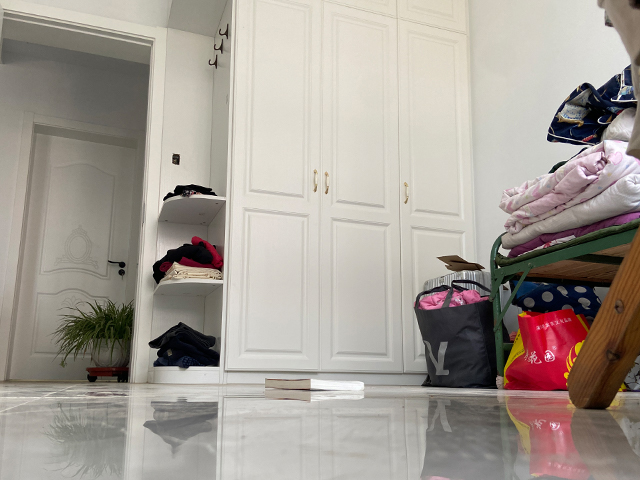bed: (490, 220, 640, 389)
book: (263, 377, 366, 391)
cabinet: (144, 69, 479, 388)
